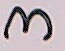sum: (1, 4, 58, 48)
